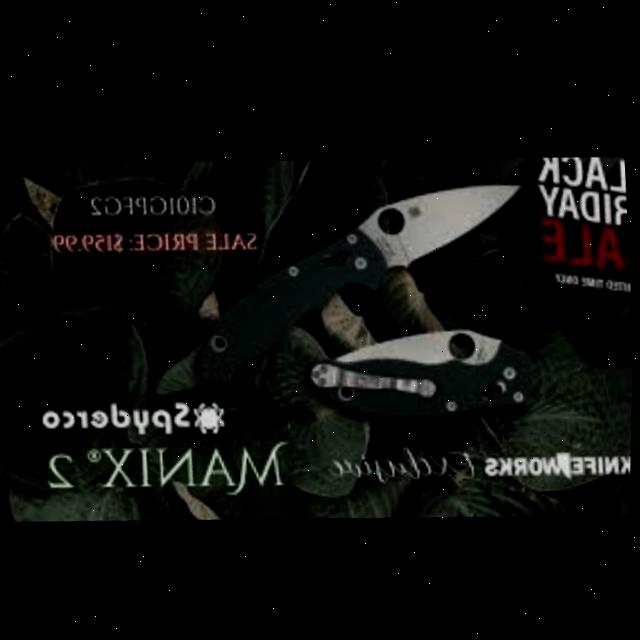Knife: (141, 155, 538, 413)
